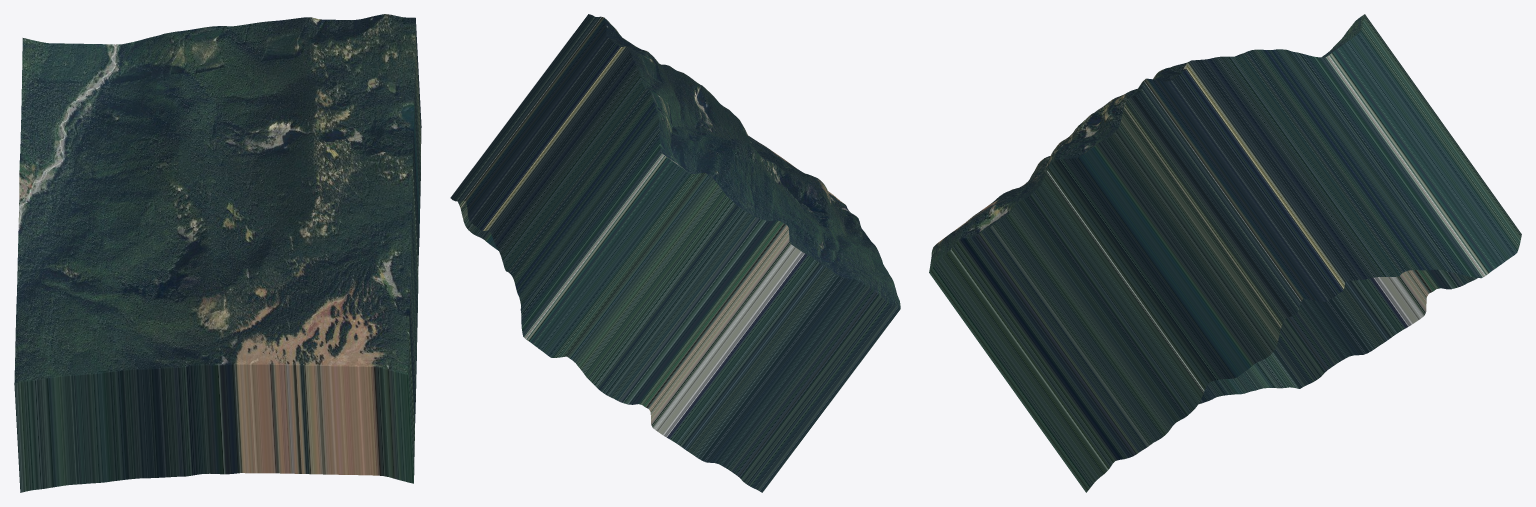
3 renders of one model, left to right at view 1: azimuth 30°, elevation 25°; view 2: azimuth 150°, elevation 25°; view 3: azimuth 270°, elevation 25°, orthographic. The views are drawn at different scales.
Size of the model in its own units: 5818 by 5366 by 6571.
Materials: 1 (1 with a texture image).
